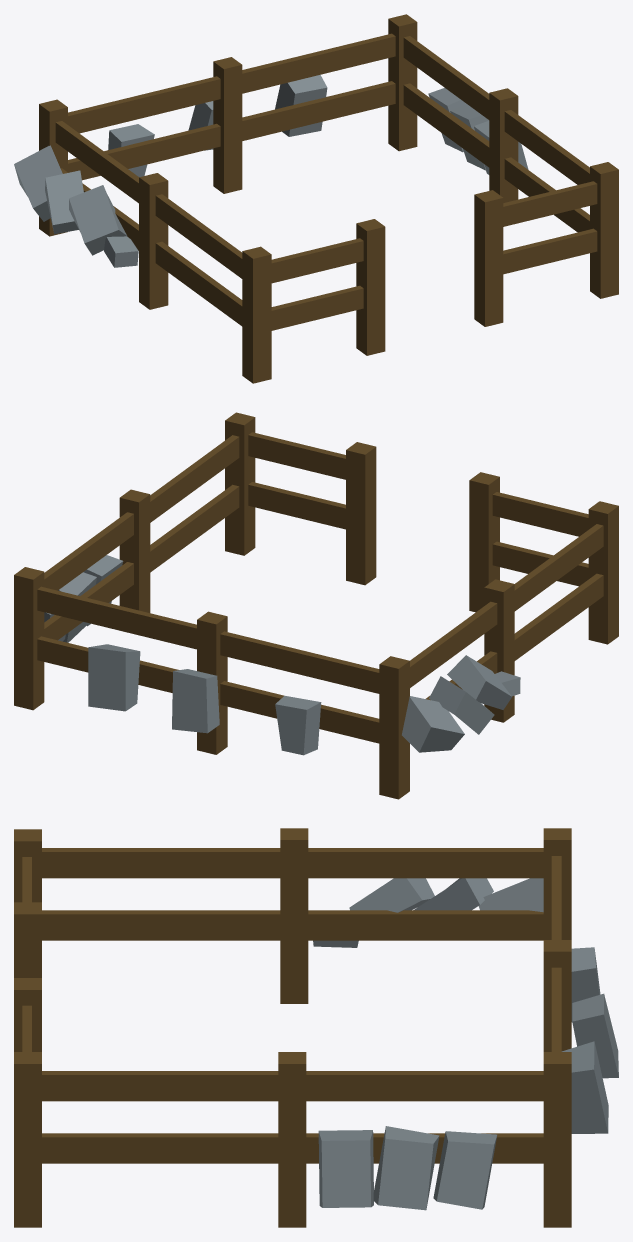
The model's file is tasCit.fbx.
The picture shows the model from 3 angles, top to bottom: view 1: azimuth 30°, elevation 25°; view 2: azimuth 150°, elevation 25°; view 3: azimuth 270°, elevation 25°; orthographic projection. The views are drawn at different scales.
Parts seen in each view (by area): view 1: oduncu; view 2: oduncu; view 3: oduncu.
Part boxes in pixels (x1,y1,x2,y2): oduncu: [14, 14, 618, 383]; oduncu: [14, 412, 618, 799]; oduncu: [14, 828, 618, 1227].
Bounding box in the file's own units: 7.8 × 2.14 × 7.16.
